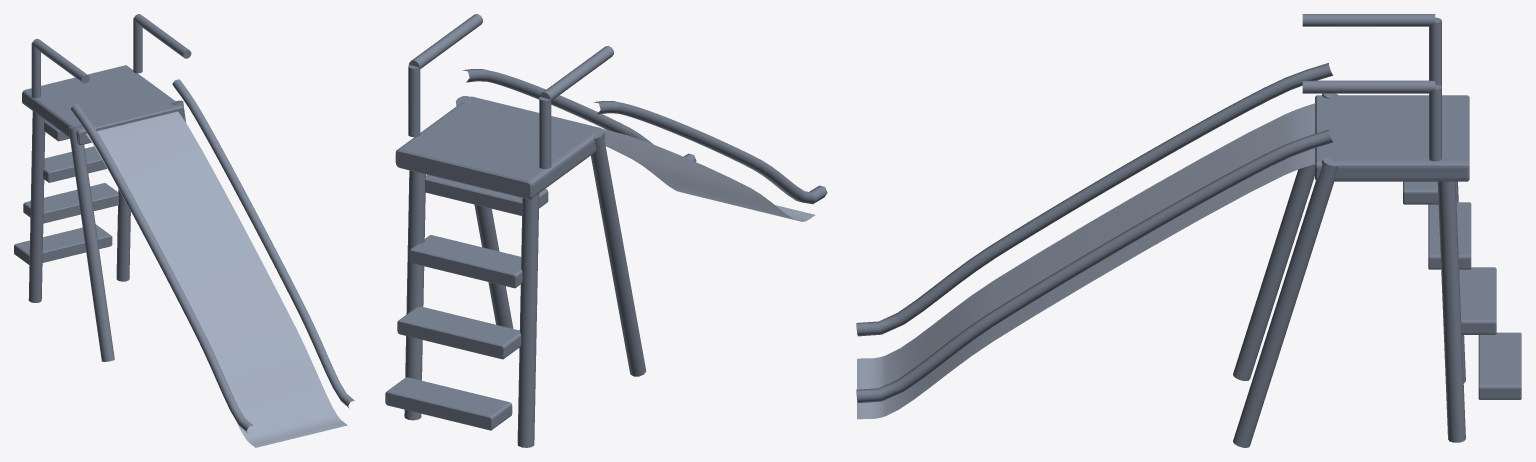
Rendered from kids-slide.glb.
The picture shows the model from 3 angles, left to right: view 1: azimuth 30°, elevation 25°; view 2: azimuth 150°, elevation 25°; view 3: azimuth 270°, elevation 25°; orthographic projection. The views are drawn at different scales.
Visible parts, largest first — view 1: soft, body, accent; view 2: body, accent, soft; view 3: body, soft, accent.
Part boxes in pixels (x1,y1,x2,y2): soft: (86, 111, 347, 447); body: (22, 14, 354, 433); accent: (14, 120, 118, 264); body: (395, 14, 827, 447); accent: (385, 175, 548, 430); soft: (603, 129, 815, 221); body: (856, 14, 1469, 447); soft: (857, 103, 1314, 419); accent: (1403, 181, 1521, 399).
Size of the model in its own units: 0.4876 by 1.12 by 1.85.
